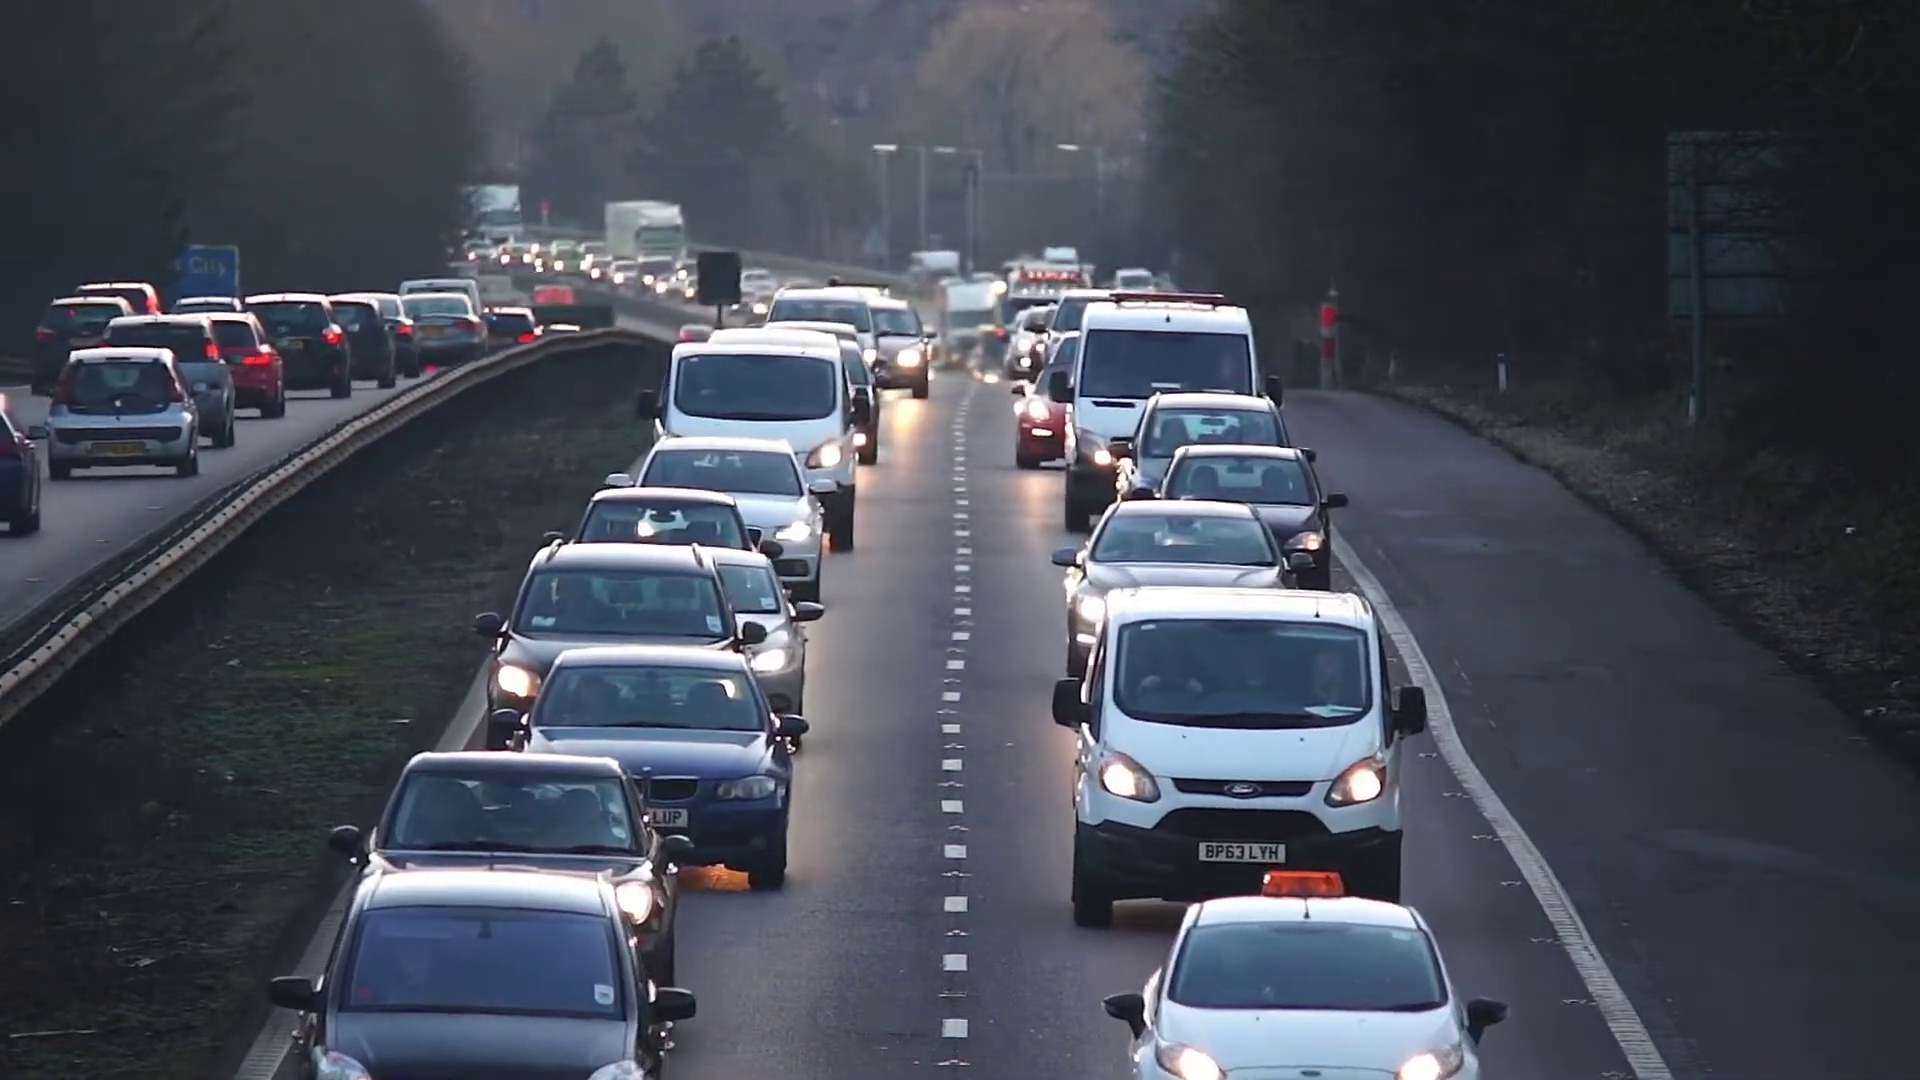license_plate: (1196, 838, 1287, 865)
